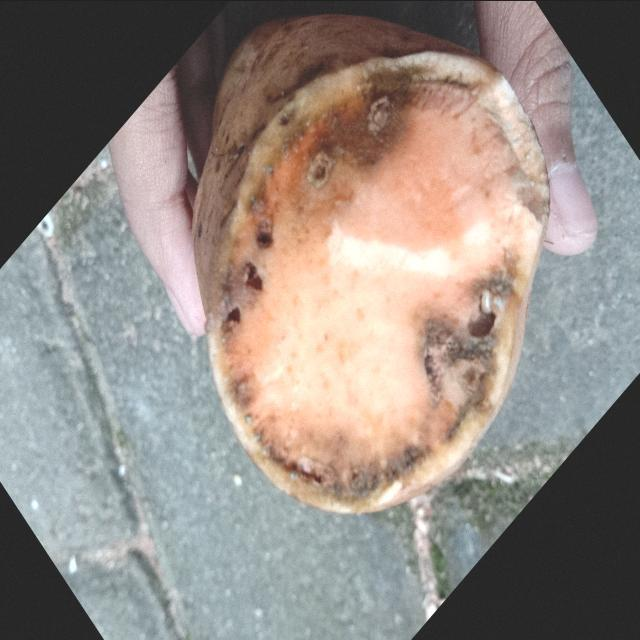Sick Sweet Potato_Tuber Rot: (209, 53, 549, 512)
